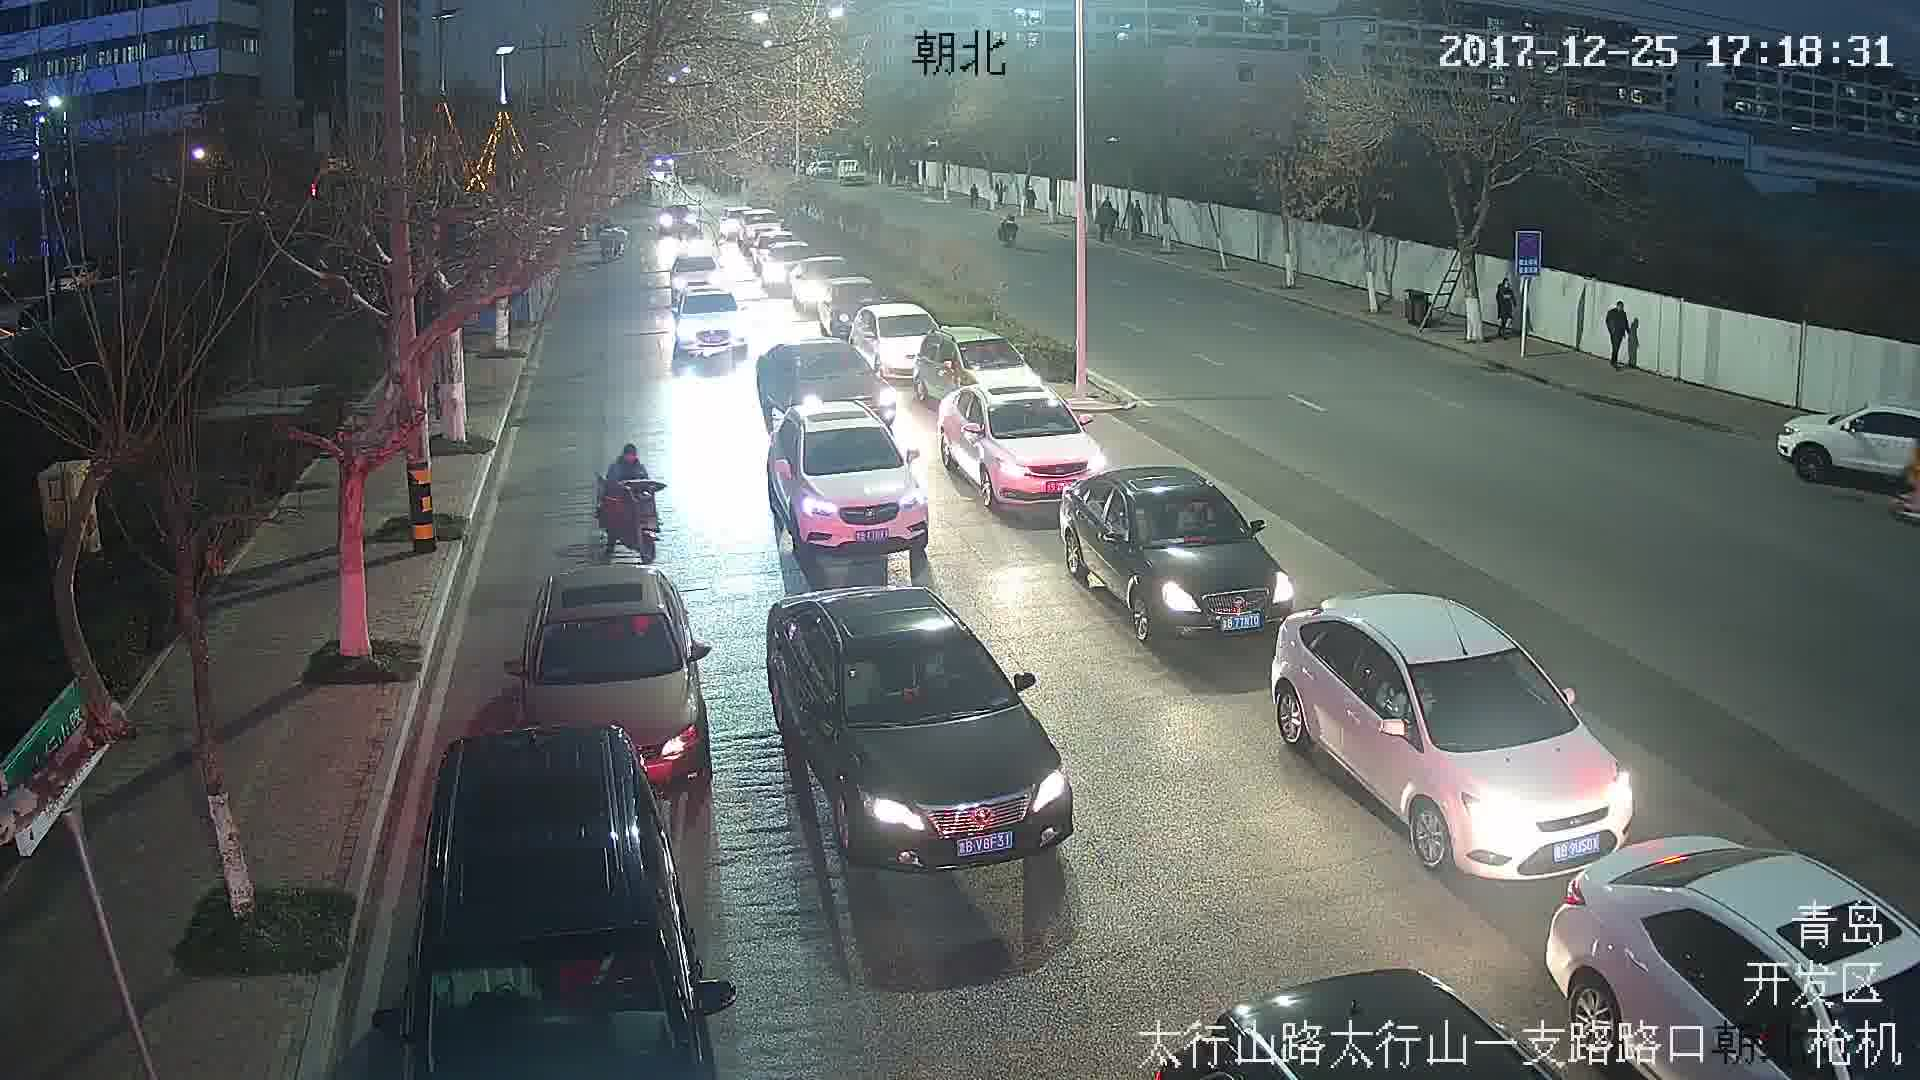car: (1275, 592, 1630, 881), (768, 594, 1075, 867), (525, 570, 723, 791), (1062, 469, 1291, 641), (766, 396, 928, 559), (938, 382, 1107, 505), (667, 285, 750, 362)
person: (596, 444, 656, 530), (1600, 298, 1631, 367), (1498, 274, 1514, 331)
